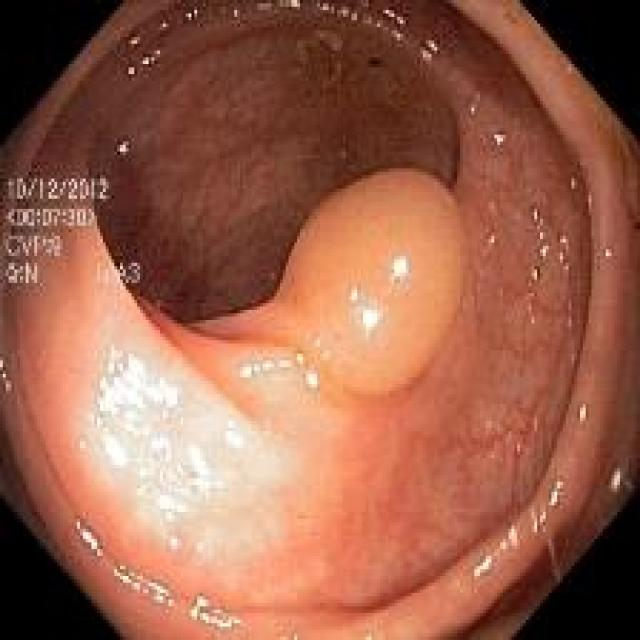Polyps: (142, 171, 466, 397)
